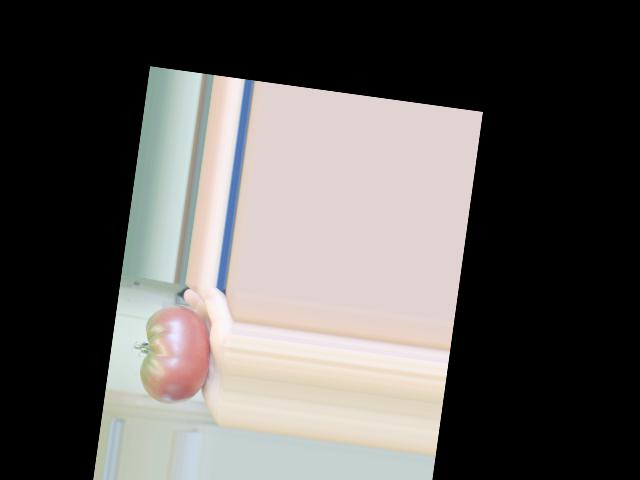tomato: (135, 301, 216, 408)
